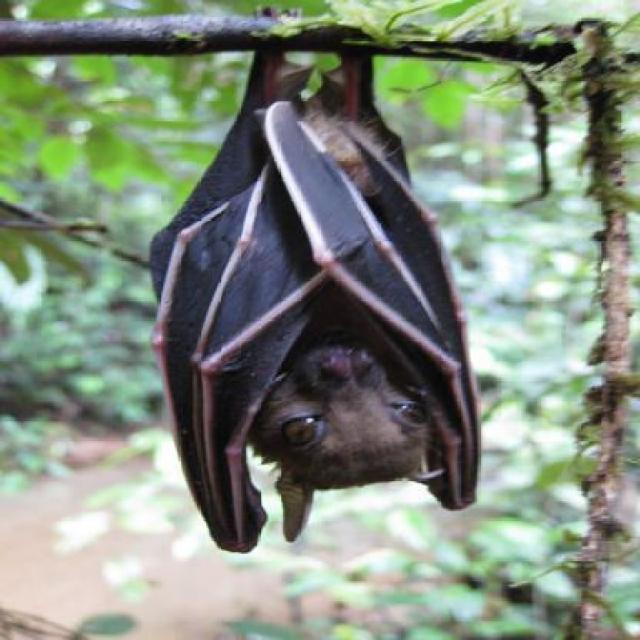Bat: (158, 35, 486, 551)
